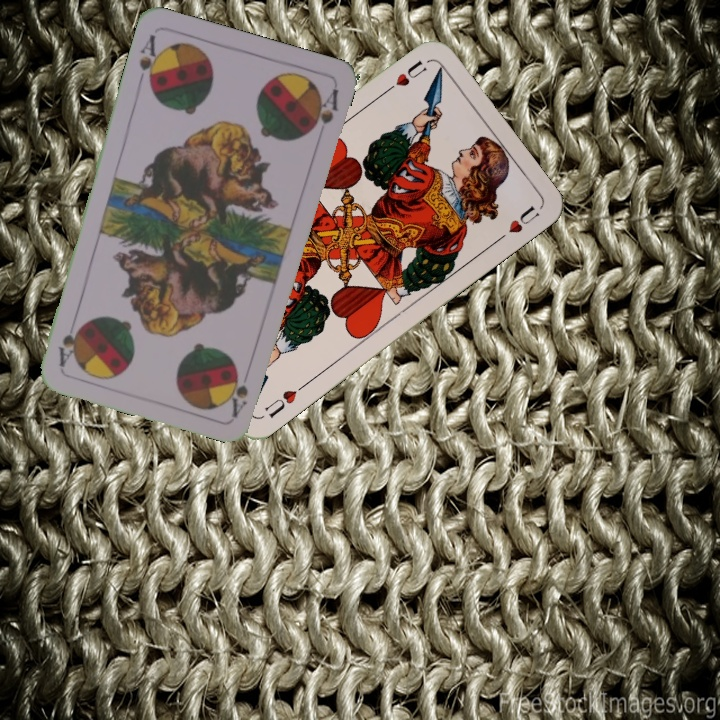HU: (379, 56, 430, 97), (260, 379, 309, 421)
SA: (134, 30, 165, 91), (228, 372, 251, 419)
